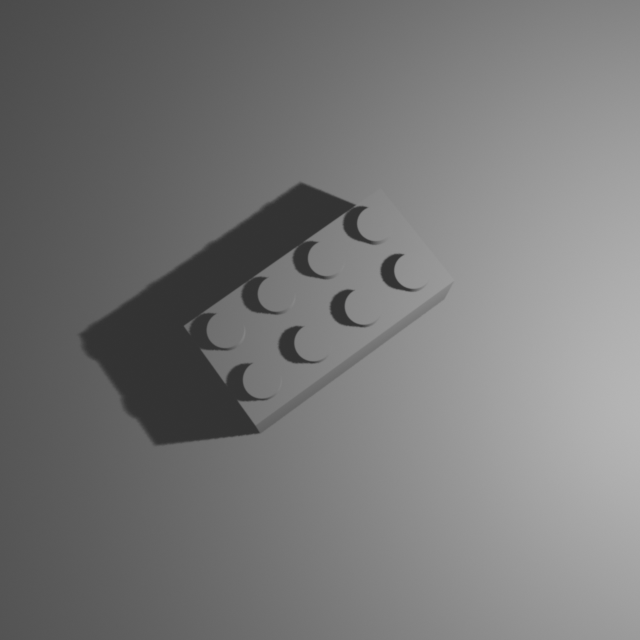lego_2x4: (182, 184, 456, 434)
